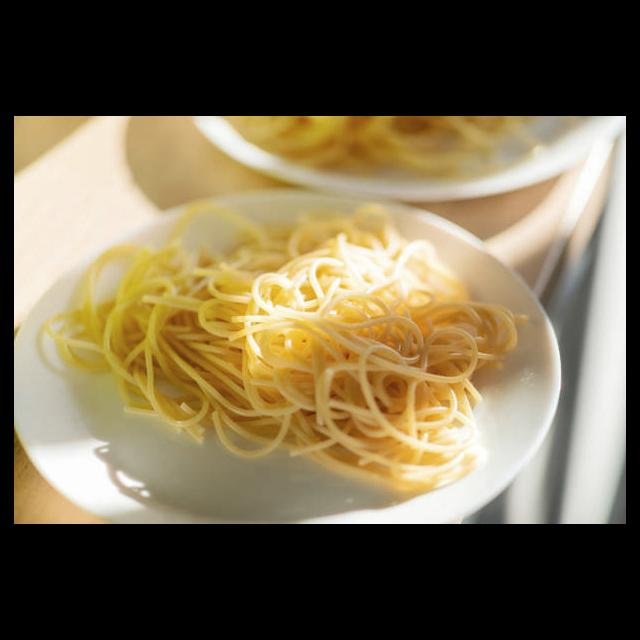noodles: (33, 194, 530, 495), (223, 116, 581, 177)
